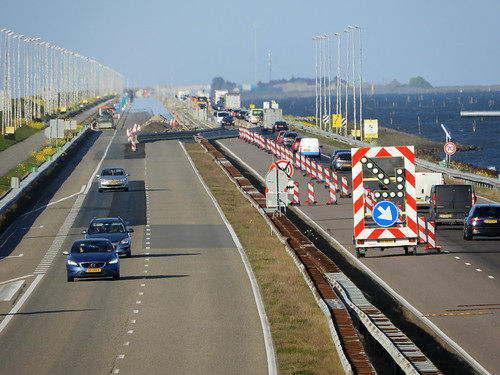car: (62, 238, 127, 282), (427, 177, 477, 224), (84, 213, 136, 256), (467, 204, 500, 240), (95, 163, 131, 192)
sea: (278, 89, 500, 152)
sign: (350, 145, 416, 257)
sky: (1, 1, 485, 85)
street: (2, 89, 285, 372)
